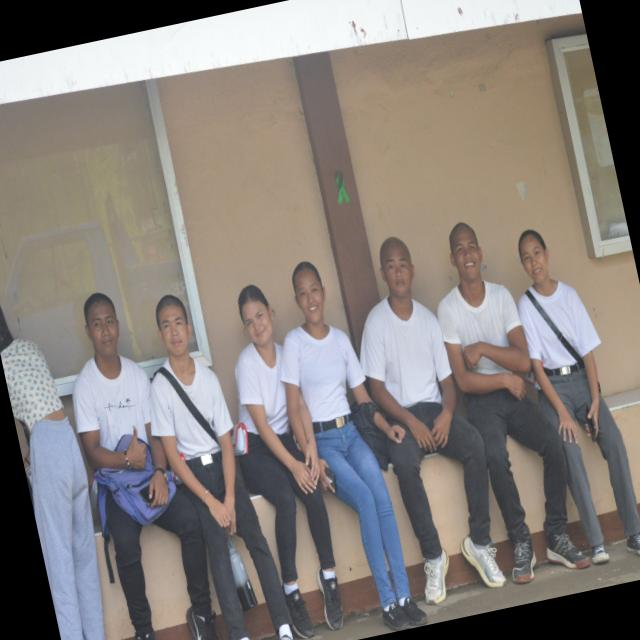person: (438, 223, 590, 583), (281, 262, 427, 631), (361, 237, 506, 604), (73, 293, 216, 639), (151, 295, 292, 639), (518, 230, 639, 563), (235, 285, 343, 638), (0, 306, 105, 639)
